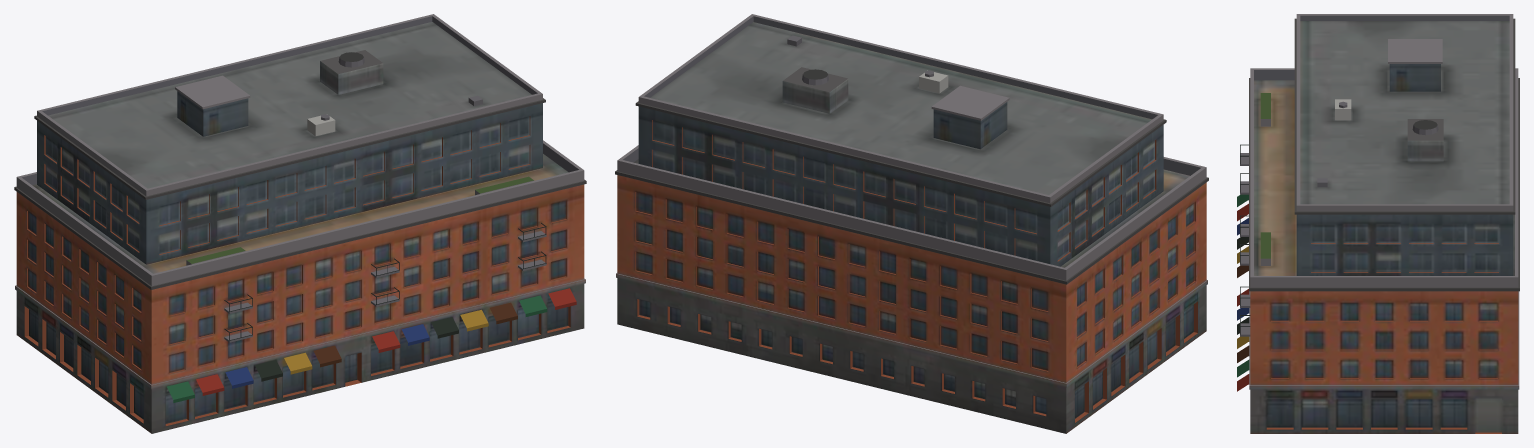
Rendered from seattle_podium_d.glb.
3 views of the same model, side by side, from view 1: azimuth 30°, elevation 25°; view 2: azimuth 150°, elevation 25°; view 3: azimuth 270°, elevation 25° (orthographic). The views are drawn at different scales.
Visible parts, largest first — view 1: seattle_podium_d; view 2: seattle_podium_d; view 3: seattle_podium_d.
Boxes of the visible parts, left/top/right/bottom form: seattle_podium_d: left=14, top=14, right=586, bottom=433; seattle_podium_d: left=615, top=14, right=1208, bottom=433; seattle_podium_d: left=1237, top=14, right=1519, bottom=433.
Size of the model in its own units: 48.3 by 26.12 by 27.45.
1 material, 1 textured.
